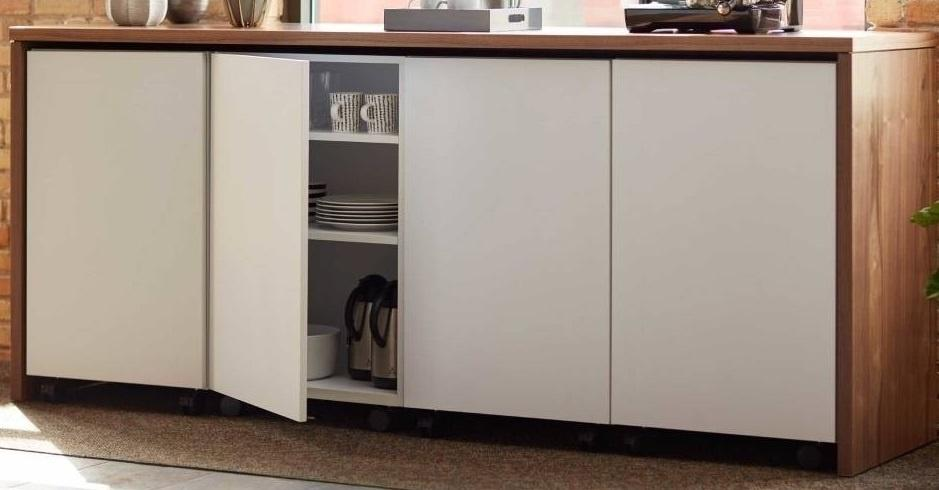cabinet_door: (618, 61, 846, 431), (409, 66, 617, 418), (28, 51, 210, 388), (207, 56, 307, 403)
